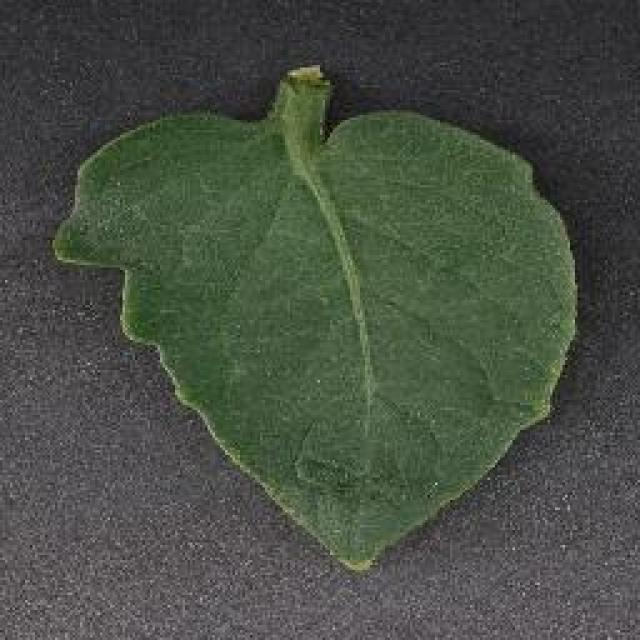healthy: (50, 74, 578, 573)
